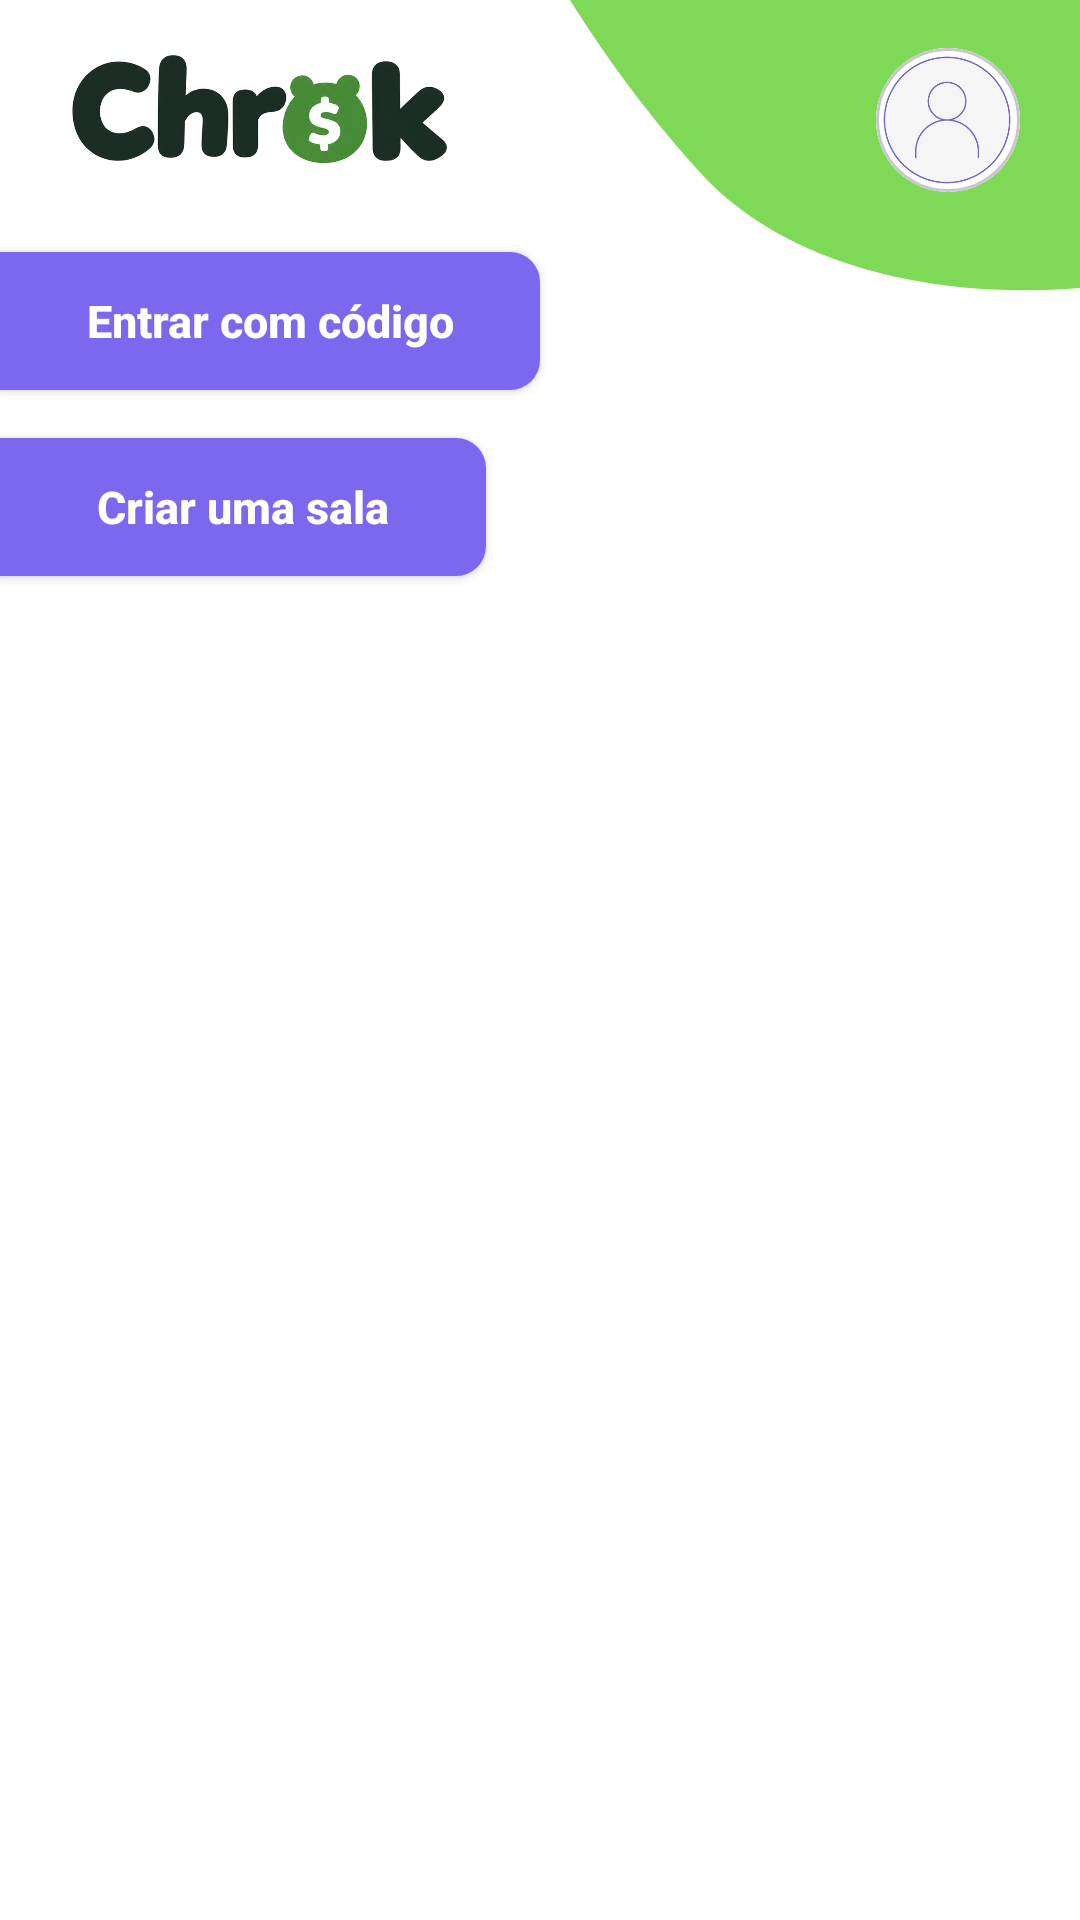

Named icons in this screenshot (1080x1920) and their centers, (x,y):
Perfil: (948,120)
